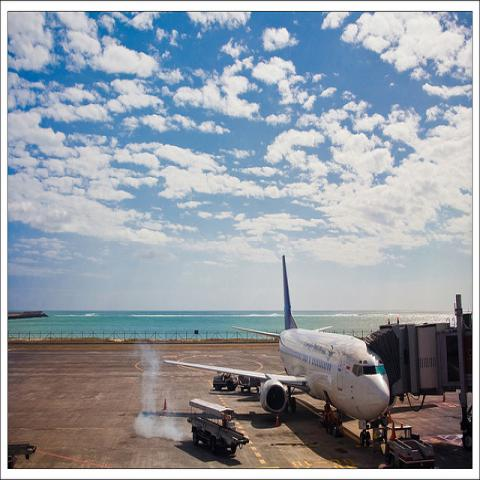truck: (186, 394, 250, 454), (386, 423, 438, 461), (213, 373, 237, 393)
